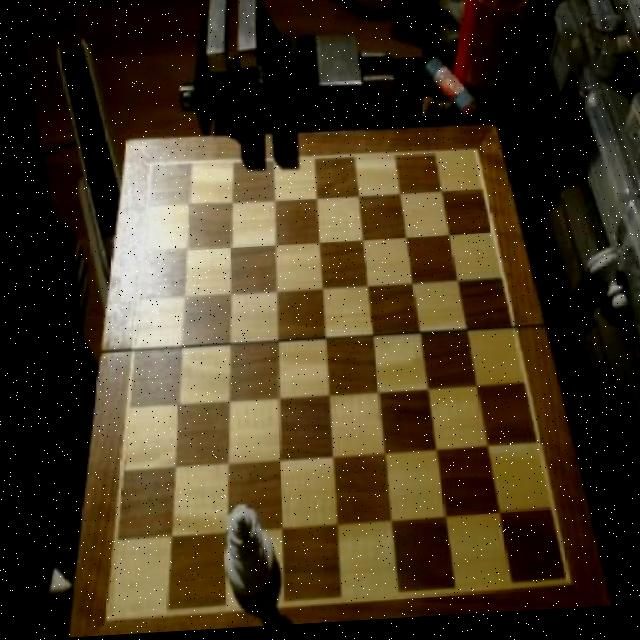white-pawn: (212, 504, 271, 609)
